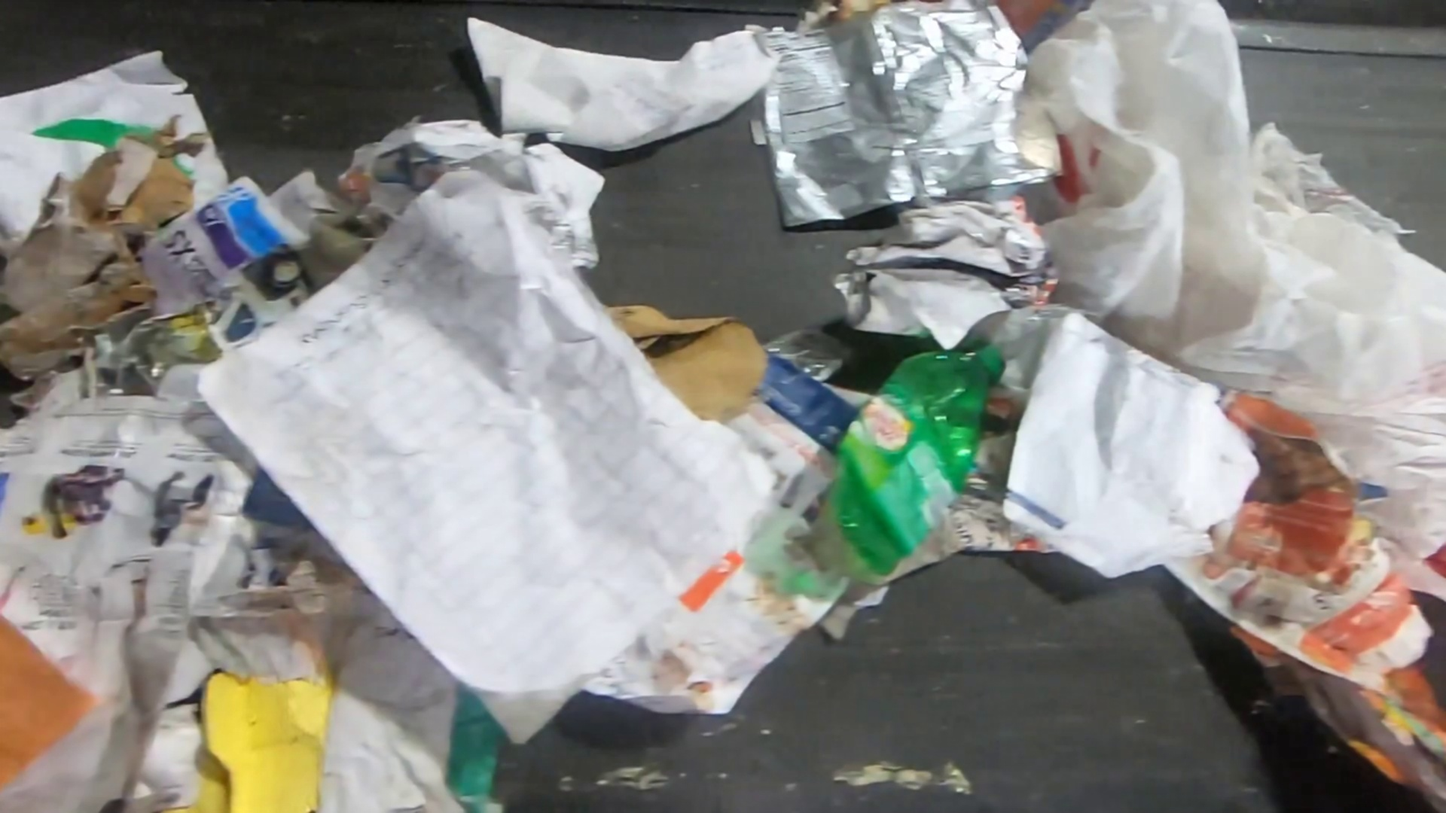cardboard: (0, 111, 212, 378), (604, 303, 769, 423)
plastic: (963, 0, 1446, 559), (760, 0, 1065, 230), (819, 337, 1007, 577), (719, 329, 865, 500)
